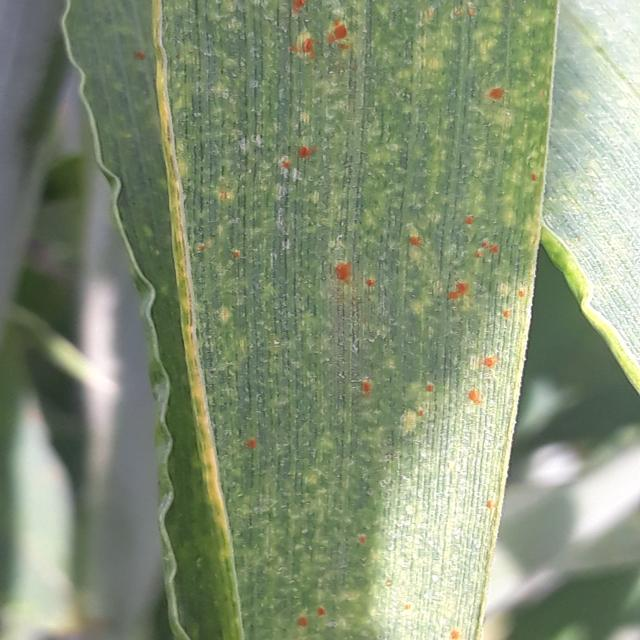orang_rust: (52, 0, 571, 640)
